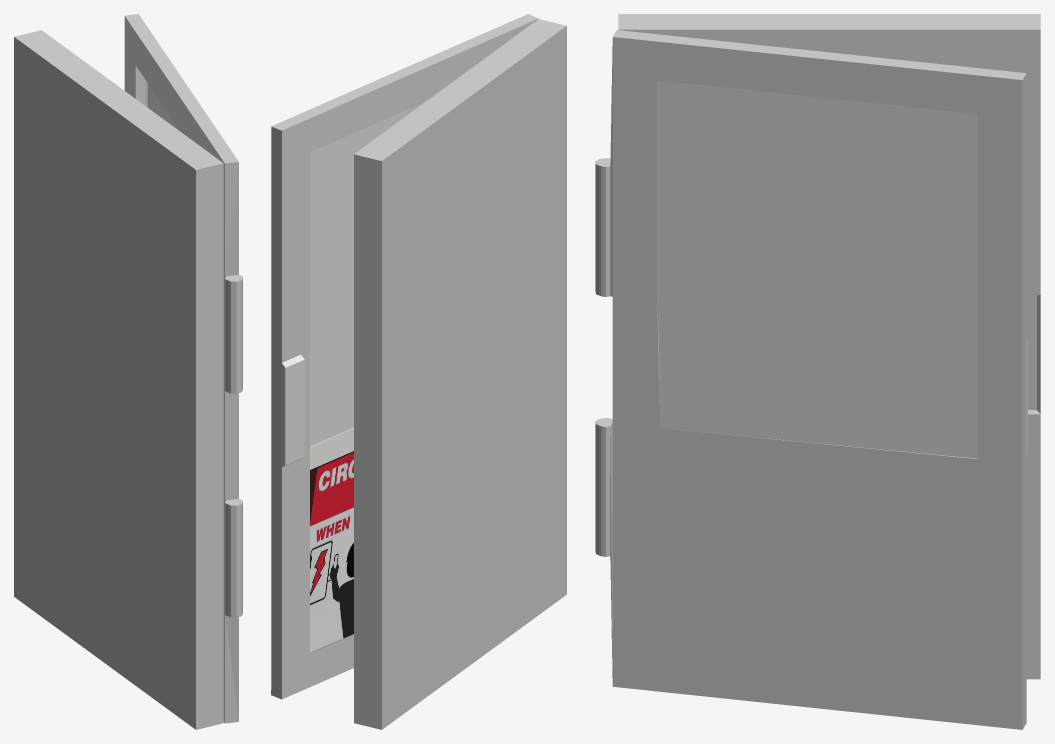
The model's file is CircuitBreaker.fbx.
3 renders of one model, left to right at view 1: azimuth 30°, elevation 25°; view 2: azimuth 150°, elevation 25°; view 3: azimuth 270°, elevation 25°, orthographic. The views are drawn at different scales.
Visible parts, largest first — view 1: CircuitBreaker, BreakerDoor; view 2: CircuitBreaker, BreakerDoor; view 3: BreakerDoor, CircuitBreaker.
Part boxes in pixels (bbox=[...]): CircuitBreaker: bbox=[14, 30, 223, 729]; BreakerDoor: bbox=[124, 14, 242, 723]; CircuitBreaker: bbox=[354, 19, 566, 729]; BreakerDoor: bbox=[271, 14, 538, 699]; BreakerDoor: bbox=[595, 30, 1027, 729]; CircuitBreaker: bbox=[618, 14, 1040, 679].
Size of the model in its own units: 79.13 by 362 by 225.
4 materials, 1 textured.
